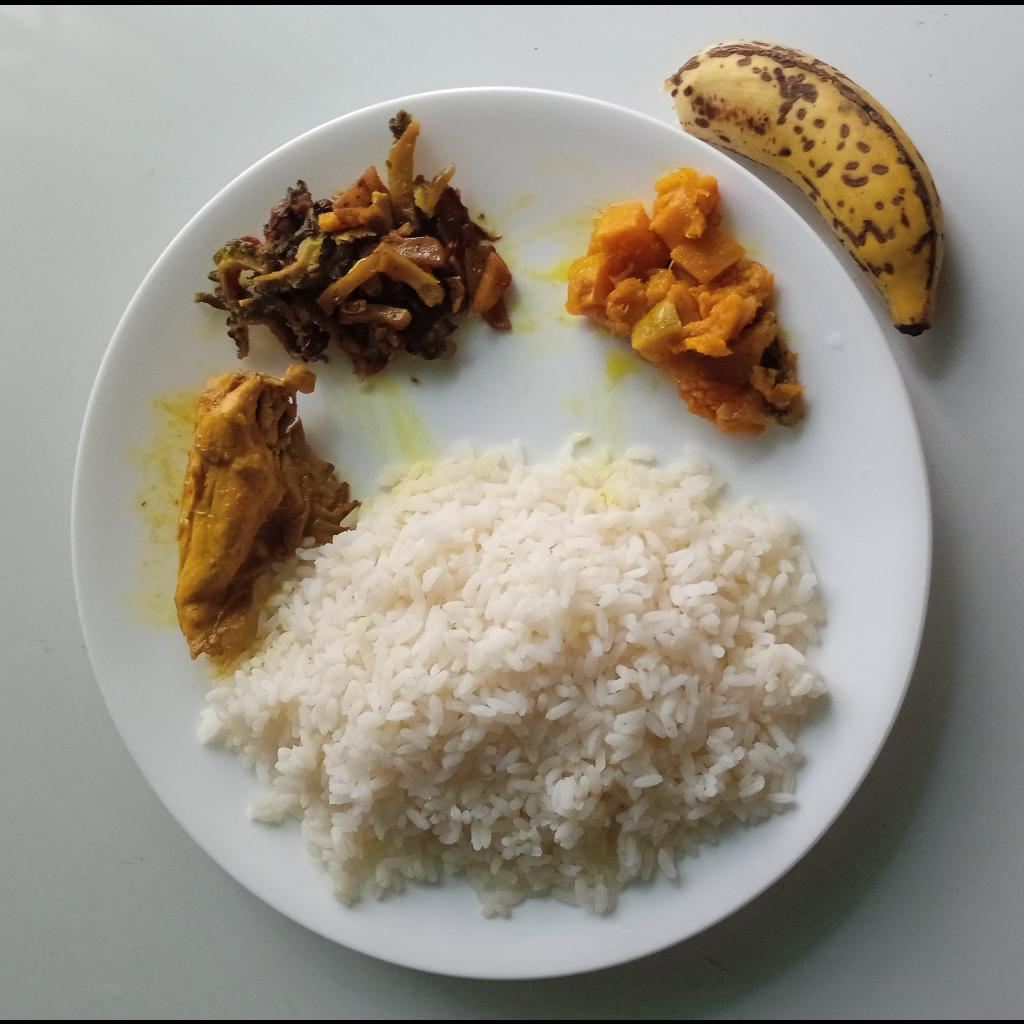banana: (665, 36, 948, 340)
chicken: (173, 368, 361, 656)
korola-vaji: (191, 110, 513, 374)
kumra-vaji: (564, 164, 806, 436)
rice: (197, 425, 833, 920)
